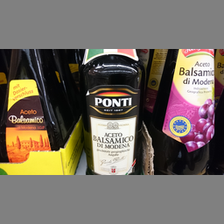vinegar: (79, 48, 146, 175), (156, 49, 220, 175), (4, 48, 61, 164)
